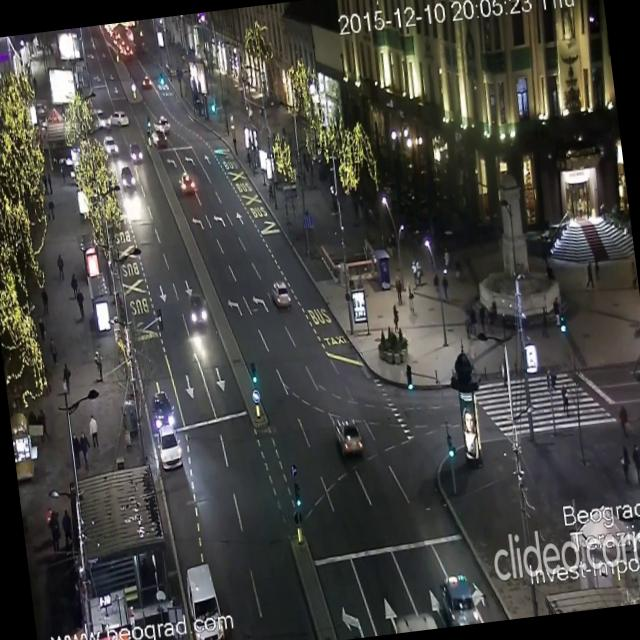car: (183, 560, 236, 640), (442, 574, 487, 626), (333, 416, 364, 458), (157, 429, 180, 470), (148, 392, 172, 430), (186, 292, 208, 326), (270, 279, 291, 310), (116, 166, 136, 188), (94, 114, 118, 132), (107, 108, 128, 126), (176, 172, 194, 192), (128, 141, 142, 164), (152, 116, 170, 132), (104, 134, 116, 158), (151, 130, 166, 148), (140, 73, 152, 86)
